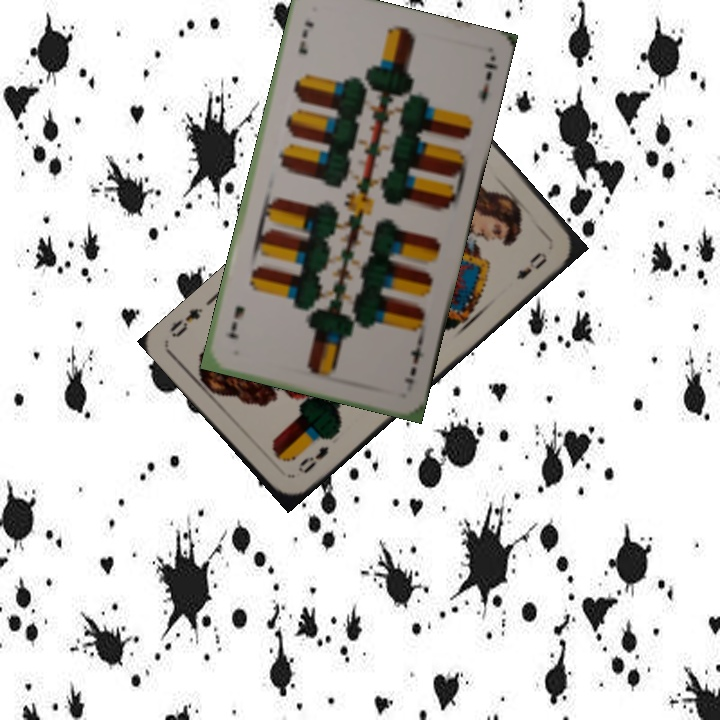E7: (399, 335, 427, 387), (294, 16, 316, 57)
EO: (293, 442, 332, 477)
